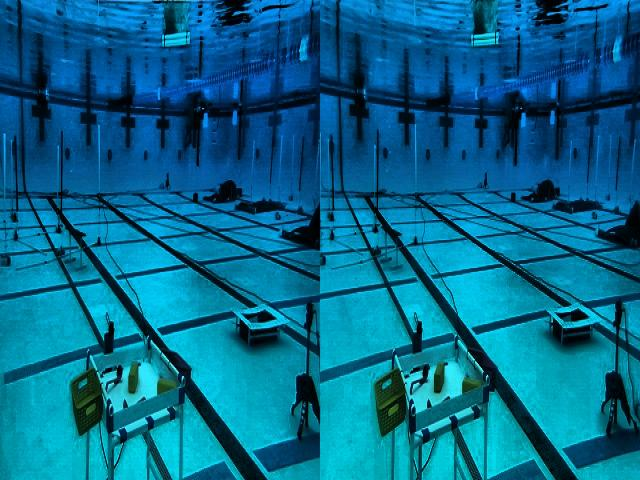gate: (196, 99, 244, 168), (514, 99, 561, 168)
octagon_table: (68, 276, 195, 480), (371, 294, 494, 480)
path_marker: (63, 223, 88, 273), (380, 222, 405, 272), (216, 181, 236, 207), (536, 181, 553, 204)
